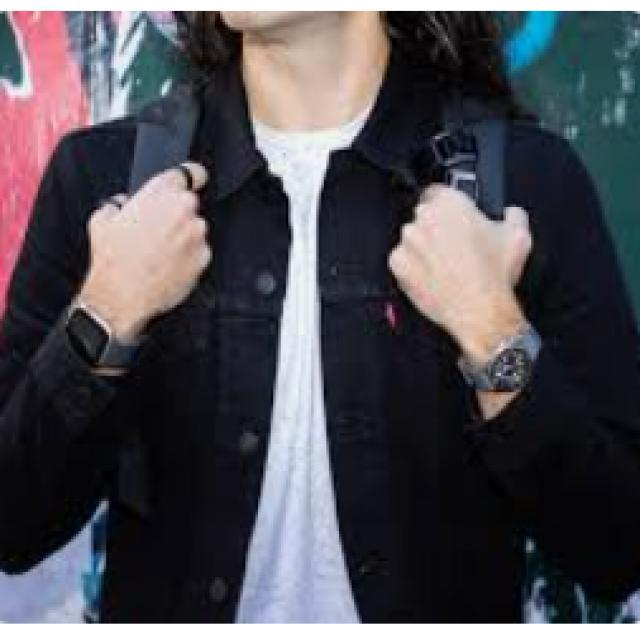Watch: (57, 296, 148, 376), (457, 323, 550, 397)
